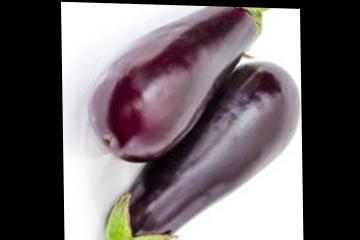eggplant: (91, 4, 291, 239)
